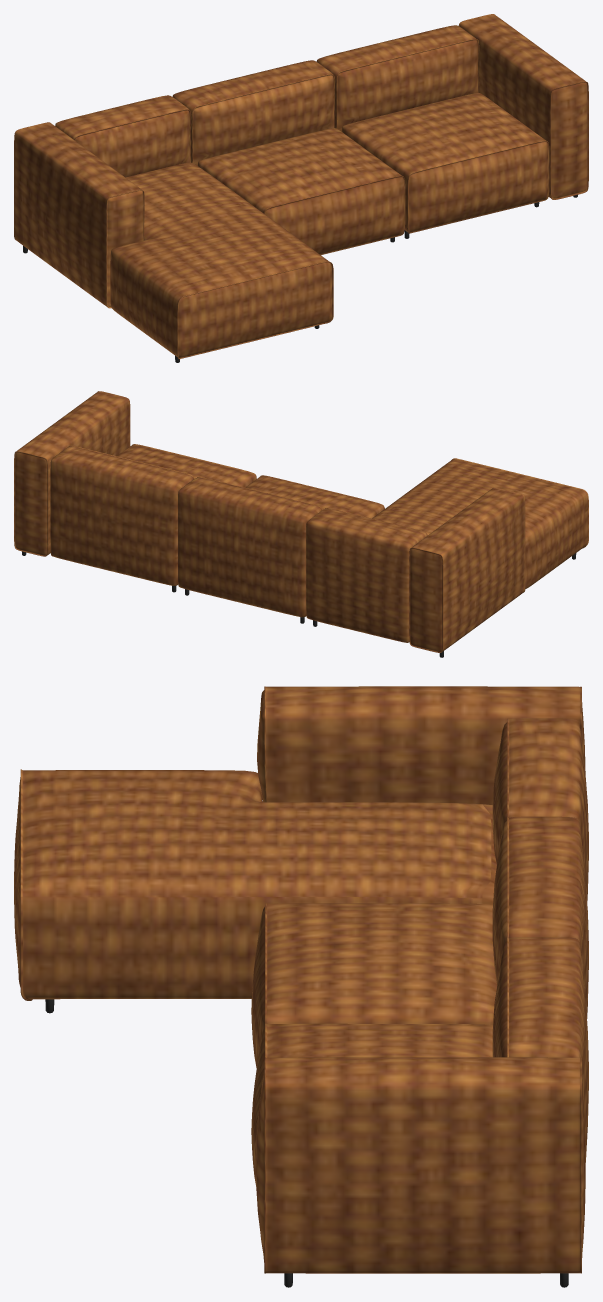
Rendered from sofa.fbx.
3 views of the same model, one above another, from view 1: azimuth 30°, elevation 25°; view 2: azimuth 150°, elevation 25°; view 3: azimuth 270°, elevation 25° (orthographic). The views are drawn at different scales.
Visible parts, largest first — view 1: Sofa; view 2: Sofa; view 3: Sofa.
Boxes of the visible parts, bbox=[...] form: Sofa: bbox=[14, 14, 588, 359]; Sofa: bbox=[14, 391, 588, 652]; Sofa: bbox=[14, 686, 588, 1273].
Bounding box in the file's own units: 300 × 72.43 × 178.
2 materials, 1 textured.
